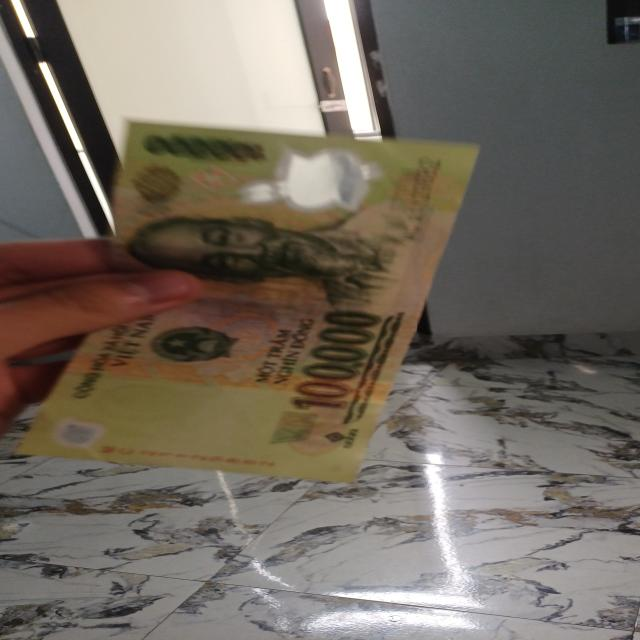100 000 VND: (8, 116, 488, 487)
